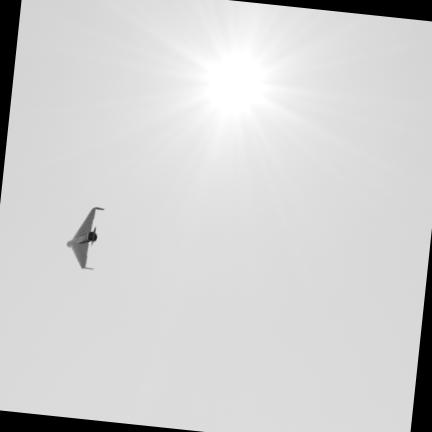Shahed: (67, 207, 103, 269)
